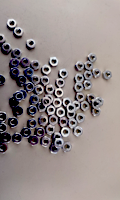nut: (8, 117, 20, 128), (13, 106, 24, 117), (16, 75, 27, 86), (1, 133, 12, 143), (22, 128, 33, 138), (36, 127, 46, 138), (9, 97, 20, 107), (41, 137, 51, 148), (46, 125, 56, 136), (49, 144, 60, 154), (54, 138, 64, 149), (38, 116, 49, 126), (14, 91, 24, 102), (31, 74, 41, 85), (12, 48, 23, 58), (7, 19, 17, 30), (48, 115, 58, 126), (29, 136, 39, 146), (28, 119, 38, 129), (28, 106, 38, 116), (30, 95, 40, 105), (10, 67, 20, 77), (25, 82, 35, 92), (2, 43, 12, 53), (10, 58, 20, 68), (20, 57, 30, 67), (26, 39, 36, 49), (14, 27, 24, 37), (49, 57, 59, 67), (59, 69, 69, 79), (88, 53, 98, 63), (53, 98, 63, 108), (37, 102, 47, 112), (103, 70, 113, 80), (56, 78, 66, 88), (73, 127, 83, 137), (61, 128, 71, 138), (59, 117, 69, 127), (76, 113, 86, 123), (76, 92, 86, 102), (0, 143, 9, 154), (13, 133, 22, 144), (63, 98, 72, 109), (81, 101, 90, 112), (63, 142, 72, 152), (19, 90, 28, 100), (55, 88, 64, 98), (31, 60, 40, 70), (42, 65, 51, 75), (41, 76, 50, 86), (35, 85, 44, 95), (46, 85, 55, 95), (42, 97, 51, 107), (74, 83, 84, 92), (57, 108, 66, 118), (47, 106, 56, 116), (67, 104, 76, 114), (69, 119, 78, 129), (92, 107, 101, 117), (76, 62, 85, 71), (75, 74, 84, 83), (84, 71, 93, 80), (85, 61, 94, 70), (93, 69, 102, 78), (84, 81, 93, 90), (92, 100, 101, 109), (95, 97, 104, 106), (0, 112, 8, 122), (73, 101, 81, 111), (88, 94, 96, 104), (0, 123, 7, 134), (45, 95, 54, 103), (53, 133, 63, 140), (67, 111, 76, 118), (0, 75, 6, 85), (0, 34, 5, 44)
